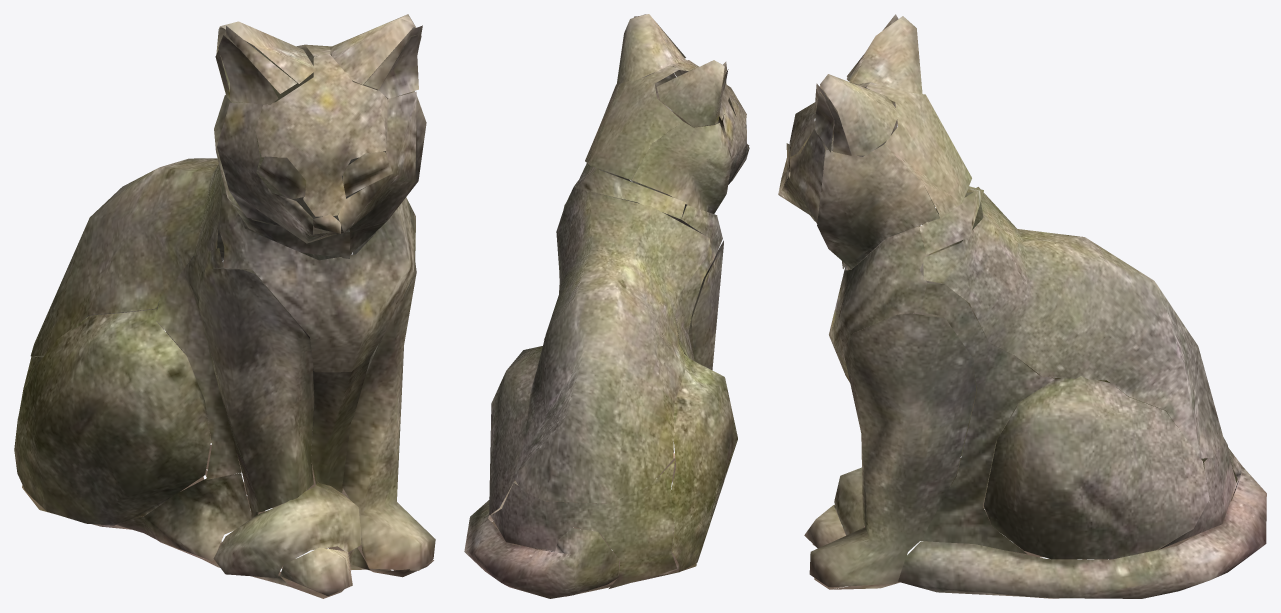
File: cat_statue.glb
3 renders of one model, left to right at view 1: azimuth 30°, elevation 25°; view 2: azimuth 150°, elevation 25°; view 3: azimuth 270°, elevation 25°, orthographic. The views are drawn at different scales.
Visible parts, largest first — view 1: cat_statue; view 2: cat_statue; view 3: cat_statue.
Part boxes in pixels (x1,y1,x2,y2): cat_statue: [14, 14, 435, 598]; cat_statue: [464, 14, 749, 598]; cat_statue: [778, 14, 1266, 598].
Bounding box in the file's own units: 0.326 × 0.603 × 0.5289.
1 material, 1 textured.
